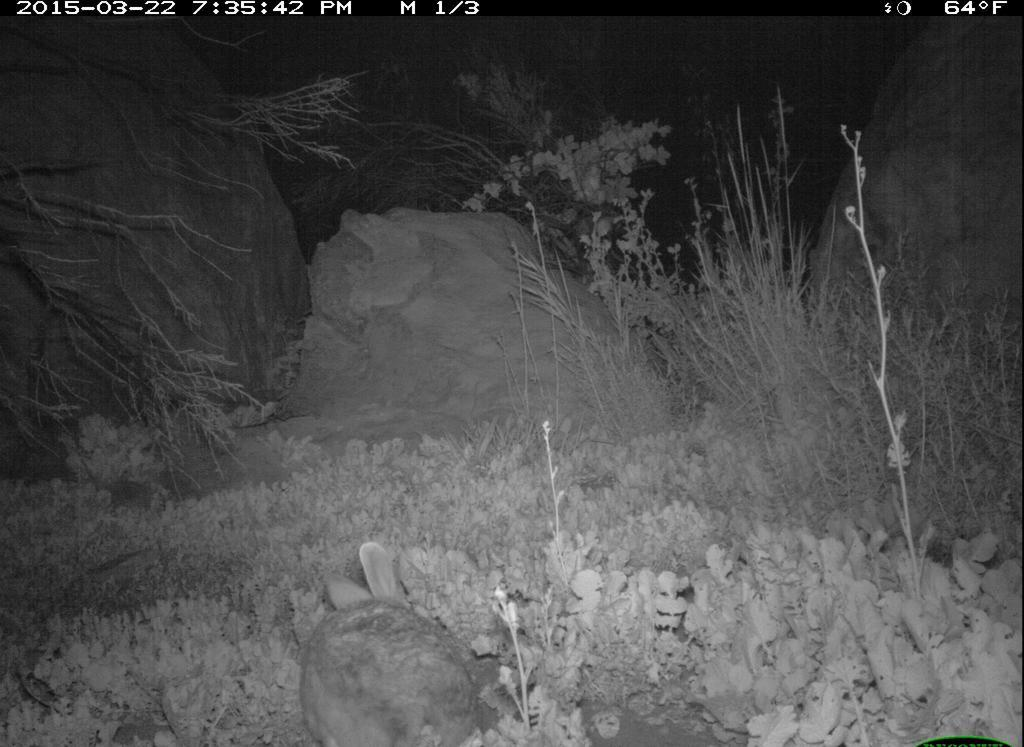rabbit: (295, 539, 486, 747)
